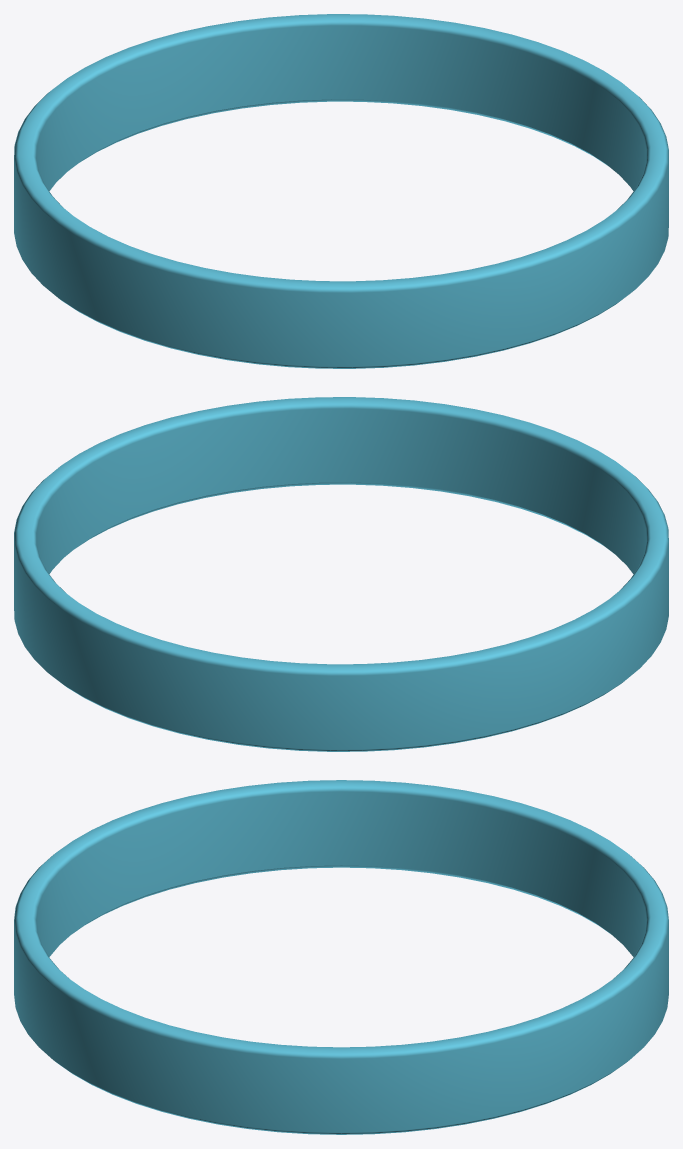
3 renders of one model, top to bottom at view 1: azimuth 30°, elevation 25°; view 2: azimuth 150°, elevation 25°; view 3: azimuth 270°, elevation 25°, orthographic.
Parts seen in each view (by area): view 1: seal_body; view 2: seal_body; view 3: seal_body.
Boxes of the visible parts, x1,y1,x2,y2 form: seal_body: [14, 14, 668, 368]; seal_body: [14, 397, 668, 751]; seal_body: [14, 780, 668, 1134].
Size of the model in its own units: 0.0921 by 0.0127 by 0.0921.
